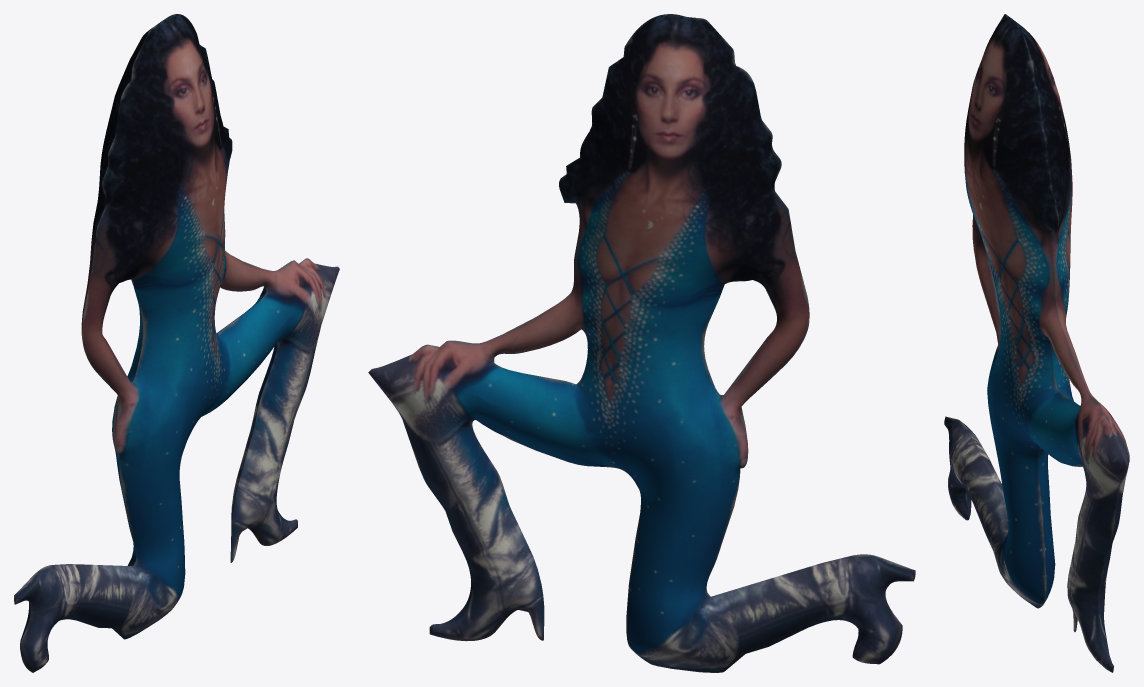
Rendered from cher.glb.
3 views of the same model, side by side, from view 1: azimuth 30°, elevation 25°; view 2: azimuth 150°, elevation 25°; view 3: azimuth 270°, elevation 25° (orthographic). The views are drawn at different scales.
Parts seen in each view (by area): view 1: Layer 0 copy; view 2: Layer 0 copy; view 3: Layer 0 copy.
Part boxes in pixels (bbox=[...]): Layer 0 copy: bbox=[14, 14, 339, 672]; Layer 0 copy: bbox=[368, 14, 915, 672]; Layer 0 copy: bbox=[944, 14, 1129, 672].
Bounding box in the file's own units: 0.5972 × 0.8294 × 0.238.
Materials: 1 (1 with a texture image).
